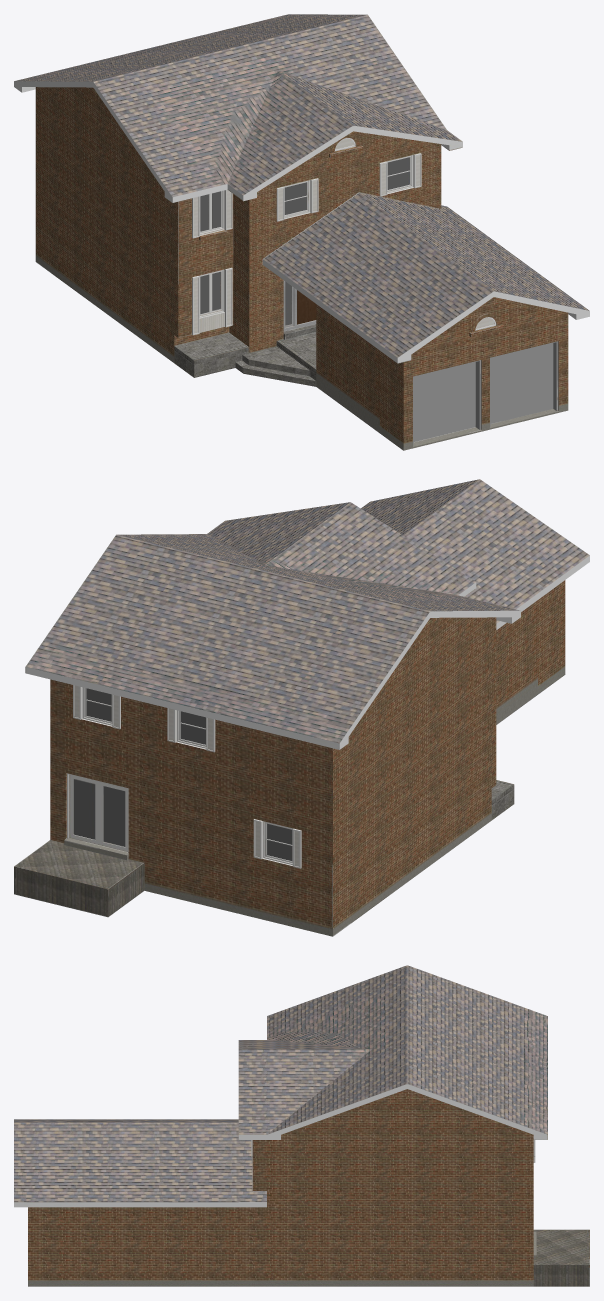
File: Residential House 12.fbx
3 views of the same model, one above another, from view 1: azimuth 30°, elevation 25°; view 2: azimuth 150°, elevation 25°; view 3: azimuth 270°, elevation 25° (orthographic). The views are drawn at different scales.
Parts seen in each view (by area): view 1: Residential_House_12_LOD0; view 2: Residential_House_12_LOD0; view 3: Residential_House_12_LOD0.
Boxes of the visible parts, <box> form: Residential_House_12_LOD0: <box>14,14,589,450</box>; Residential_House_12_LOD0: <box>14,479,589,936</box>; Residential_House_12_LOD0: <box>14,965,589,1286</box>.
Size of what is drawn, in the model's own units: 1000 by 820 by 2050.
1 material, 1 textured.
